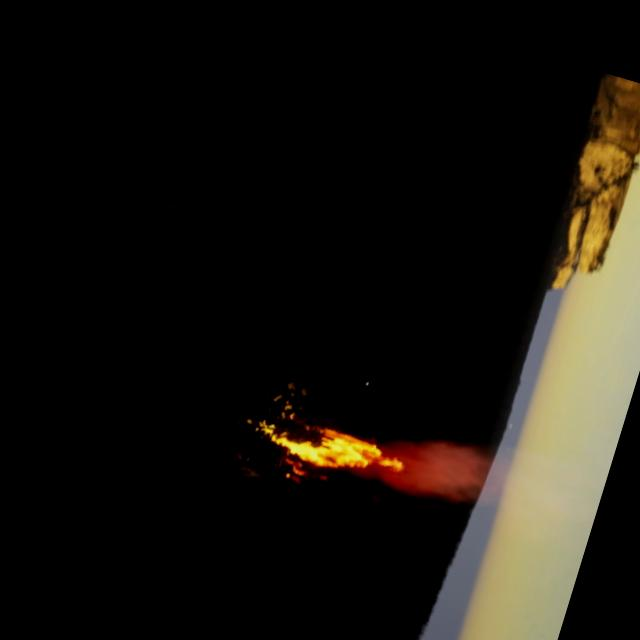fire: (248, 406, 408, 508)
smoke: (374, 422, 497, 518)
